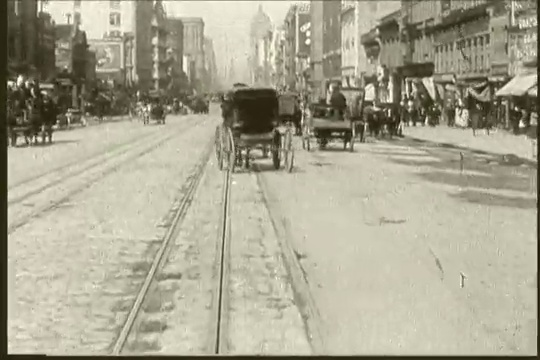carriage: (205, 75, 297, 180), (300, 82, 361, 158), (6, 72, 60, 155), (138, 98, 169, 124)
